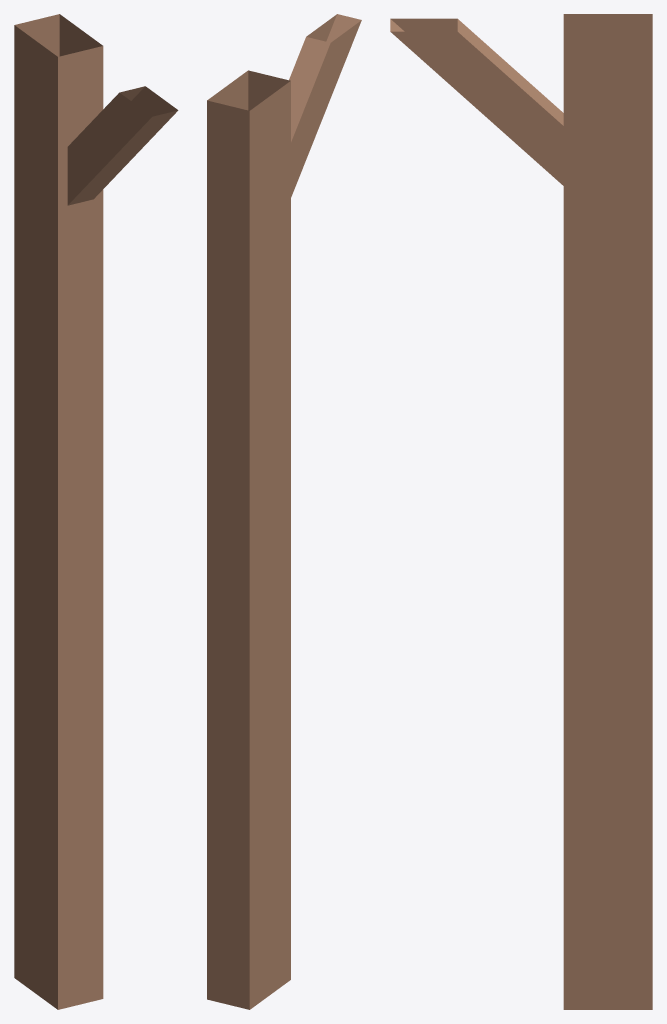
Rendered from bridge_3_column_big.fbx.
3 renders of one model, left to right at view 1: azimuth 30°, elevation 25°; view 2: azimuth 150°, elevation 25°; view 3: azimuth 270°, elevation 25°, orthographic. The views are drawn at different scales.
Parts seen in each view (by area): view 1: bridge_3_column_big; view 2: bridge_3_column_big; view 3: bridge_3_column_big.
Boxes of the visible parts, x1,y1,x2,y2 form: bridge_3_column_big: (14, 14, 178, 1009); bridge_3_column_big: (207, 14, 361, 1009); bridge_3_column_big: (390, 14, 652, 1009).
Size of the model in its own units: 0.5376 by 10.81 by 2.64.
